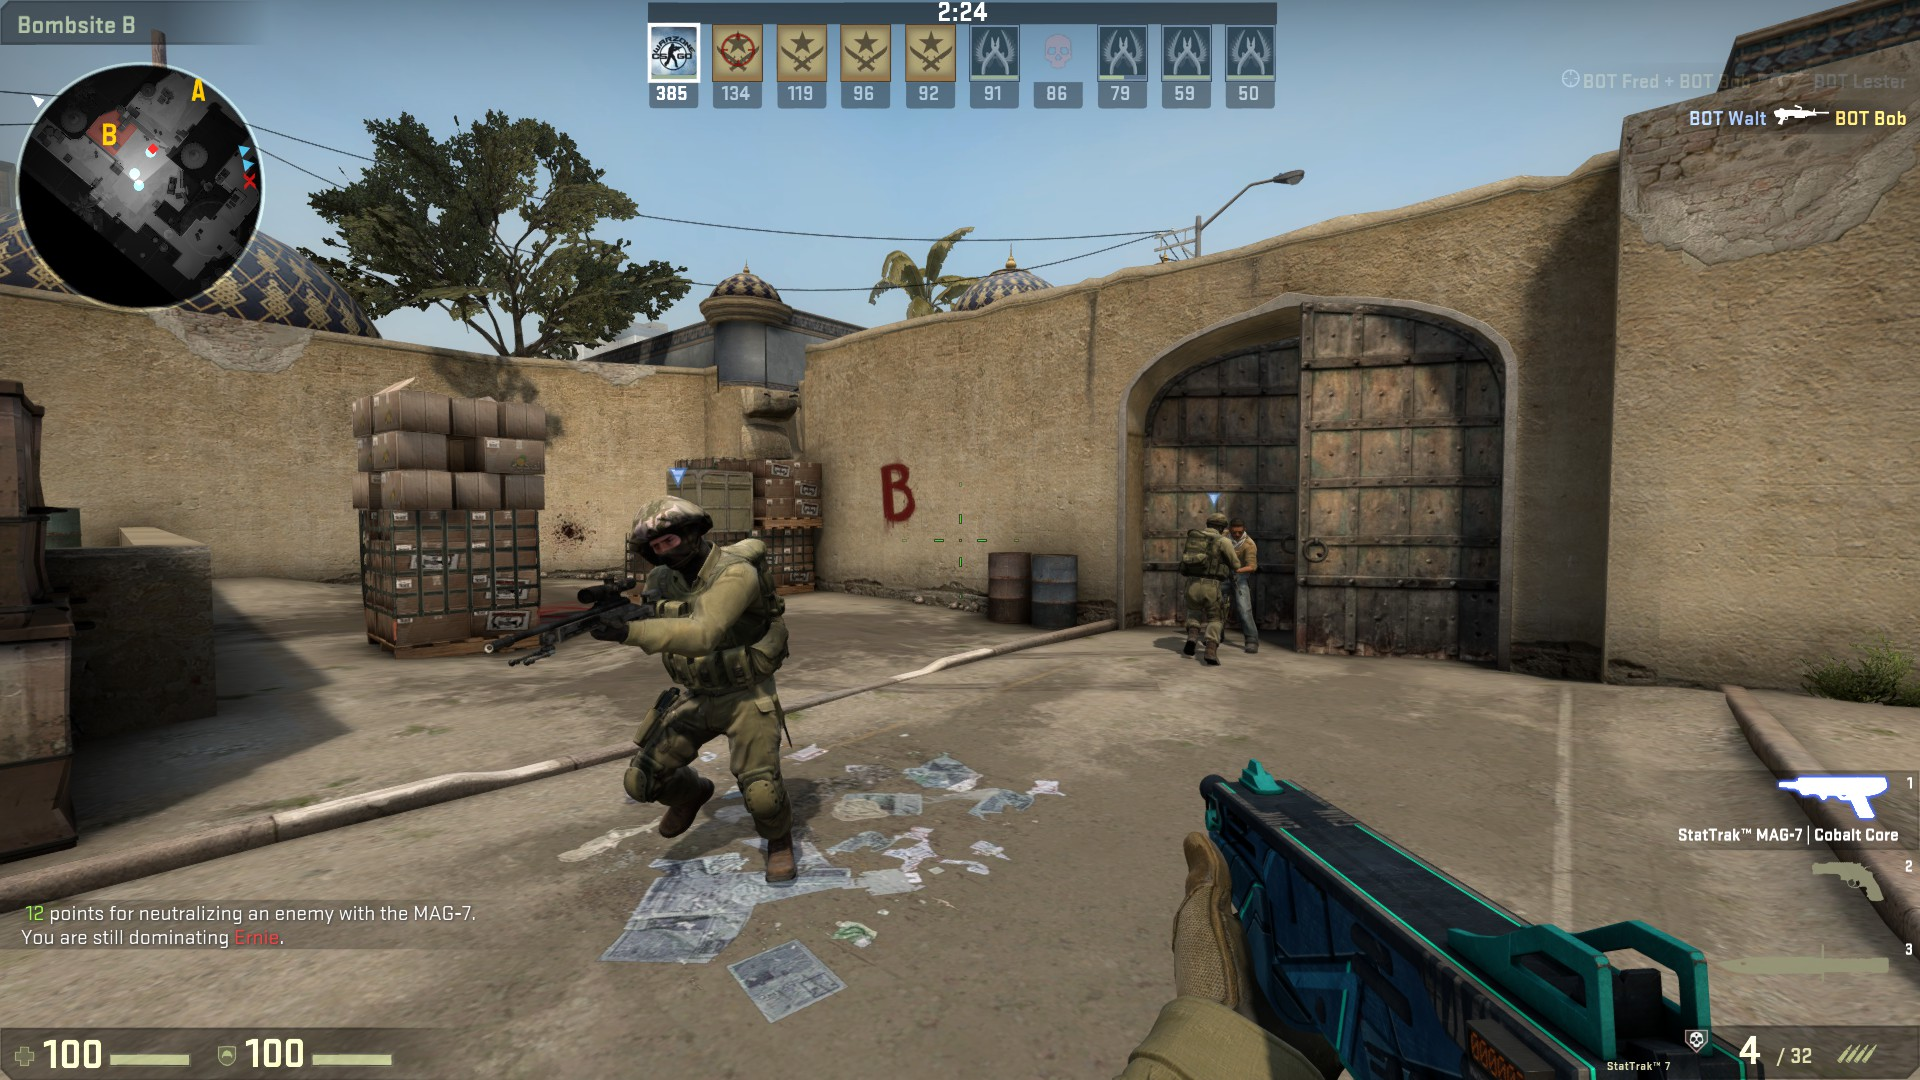c: (615, 492, 804, 861), (1182, 512, 1236, 665)
ch: (625, 492, 731, 584), (1203, 512, 1228, 539)
t: (1222, 517, 1259, 655)
th: (1226, 514, 1250, 545)
